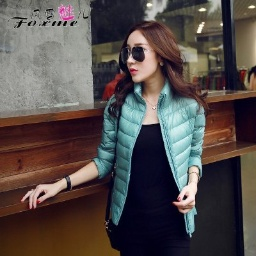face: (110, 19, 192, 97)
